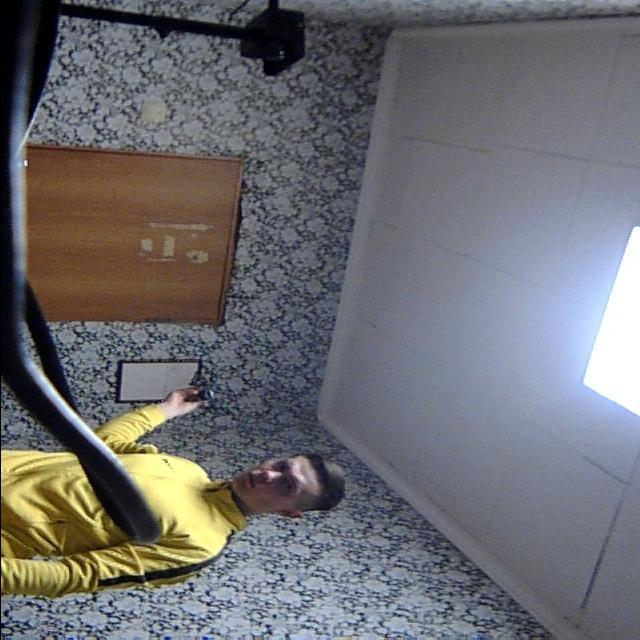drone: (186, 364, 232, 418)
